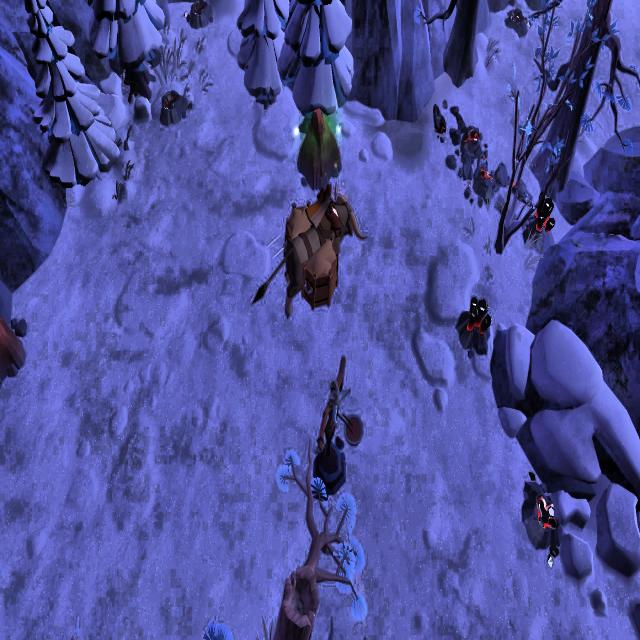ore_t5: (532, 187, 560, 232), (466, 292, 492, 336)
rock_t5: (296, 105, 344, 188), (0, 314, 34, 391)
